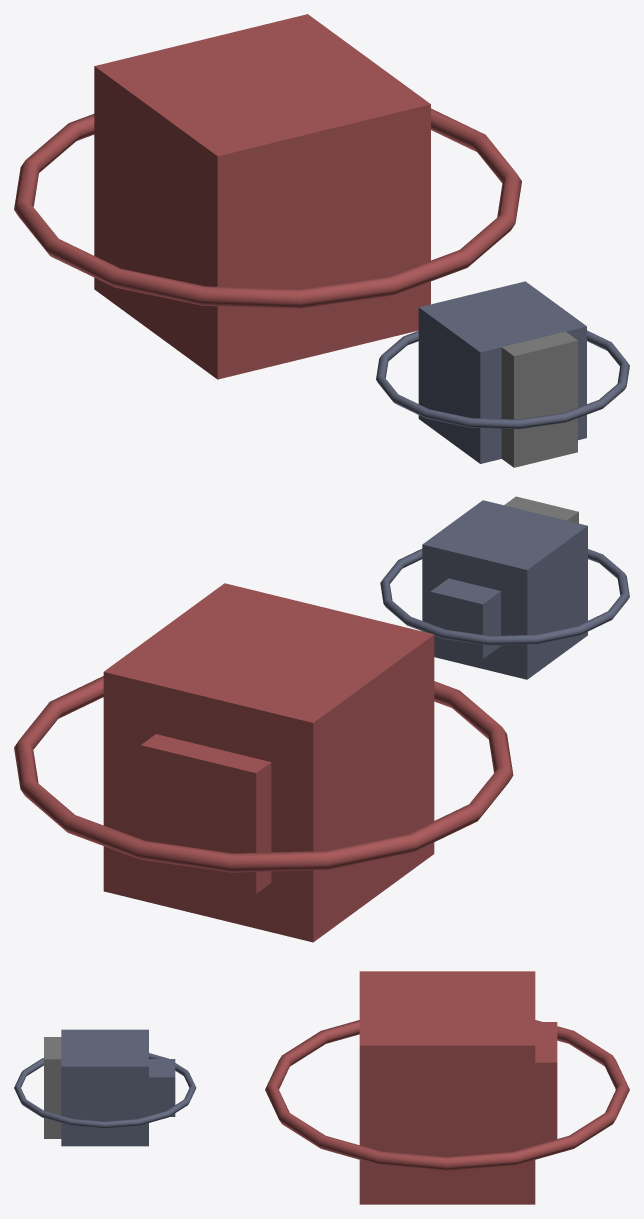
File: MatchingGyro.obj
3 renders of one model, top to bottom at view 1: azimuth 30°, elevation 25°; view 2: azimuth 150°, elevation 25°; view 3: azimuth 270°, elevation 25°, orthographic. The views are drawn at different scales.
Parts seen in each view (by area): view 1: Remote, Base, RemoteDecor, Handle, BaseDecor2; view 2: Remote, Base, RemoteDecor, RemoteDecor2, BaseDecor, BaseDecor2, Handle; view 3: Remote, Base, RemoteDecor, RemoteDecor2, BaseDecor2, Handle, BaseDecor.
Part boxes in pixels (x1,y1,x2,y2): Remote: [94, 14, 430, 379]; Base: [418, 281, 586, 463]; RemoteDecor: [14, 108, 521, 308]; Handle: [501, 331, 577, 467]; BaseDecor2: [376, 330, 629, 429]; Remote: [103, 583, 434, 942]; Base: [422, 500, 587, 679]; RemoteDecor: [14, 676, 513, 872]; RemoteDecor2: [141, 734, 271, 893]; BaseDecor: [430, 578, 500, 659]; BaseDecor2: [380, 549, 629, 645]; Handle: [504, 496, 578, 523]; Remote: [359, 971, 535, 1204]; Base: [61, 1029, 148, 1146]; RemoteDecor: [265, 1020, 629, 1170]; RemoteDecor2: [535, 1022, 557, 1144]; BaseDecor2: [14, 1053, 196, 1128]; Handle: [44, 1037, 61, 1138]; BaseDecor: [149, 1059, 175, 1116].
Bounding box in the file's own units: 2.08 × 1 × 3.51.
